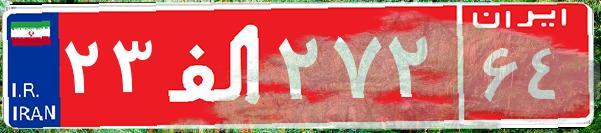2: (385, 28, 445, 110), (273, 28, 330, 110), (57, 26, 110, 107)
3: (110, 28, 158, 105)
4: (525, 38, 570, 115)
6: (475, 38, 525, 113)
7: (330, 28, 385, 110)
الف: (158, 15, 273, 115)
